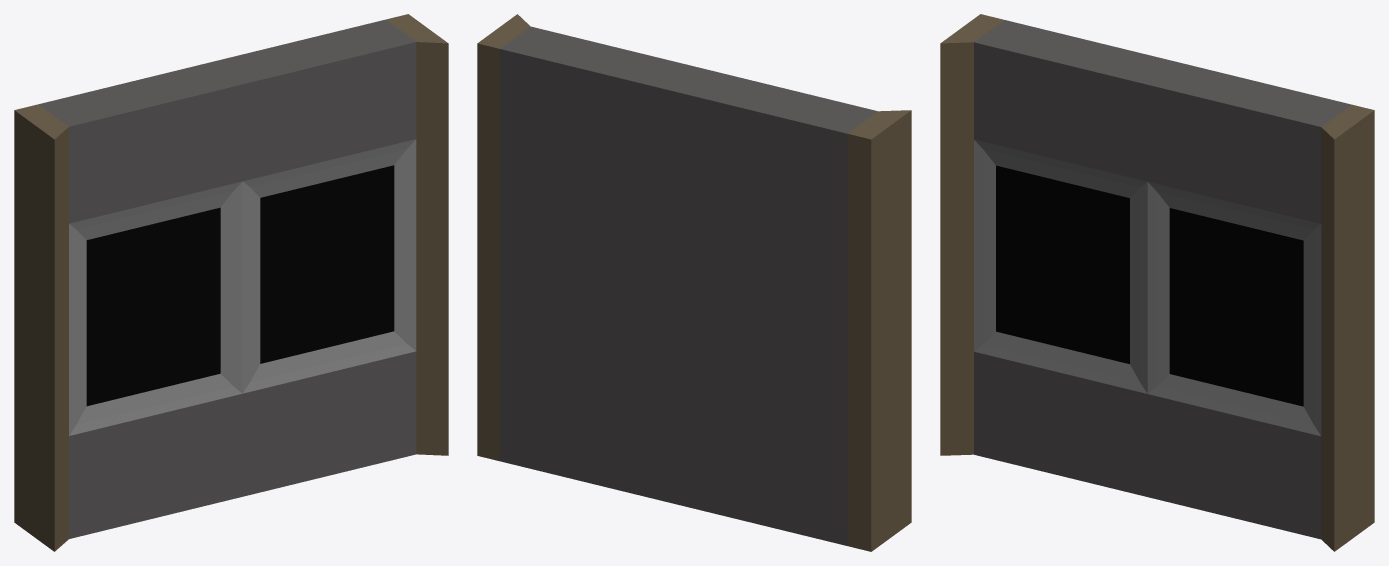
File: ground_floor_wall_02.fbx
3 views of the same model, side by side, from view 1: azimuth 30°, elevation 25°; view 2: azimuth 150°, elevation 25°; view 3: azimuth 330°, elevation 25° (orthographic).
Visible parts, largest first — view 1: ground_floor_wall_02; view 2: ground_floor_wall_02; view 3: ground_floor_wall_02.
Part boxes in pixels (x1,y1,x2,y2): ground_floor_wall_02: [14, 14, 448, 551]; ground_floor_wall_02: [477, 14, 911, 551]; ground_floor_wall_02: [940, 14, 1374, 551].
Bounding box in the file's own units: 300 × 300 × 53.02.
